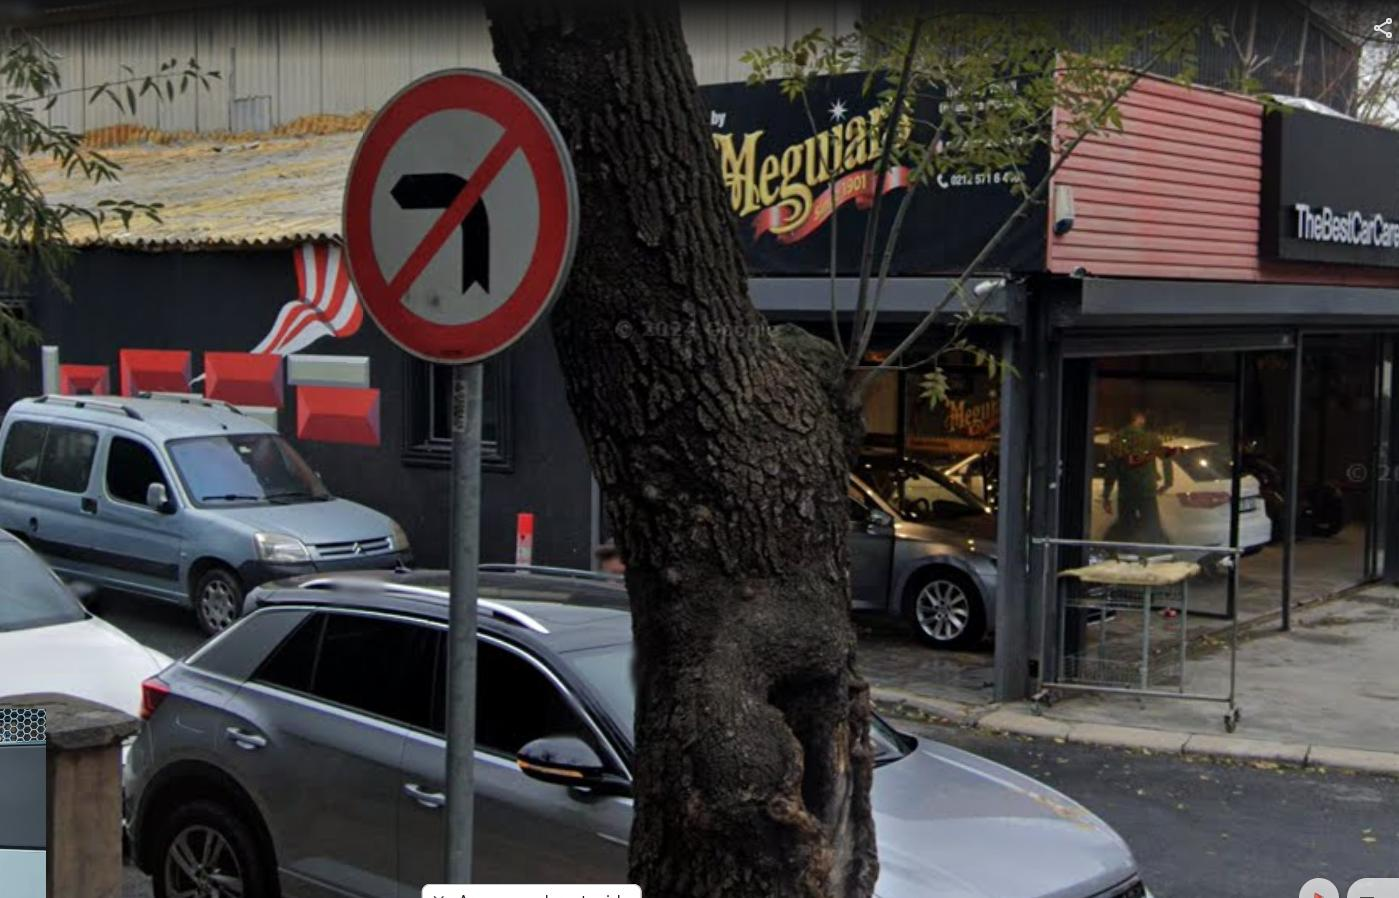leftturnsareforbidden: (328, 76, 567, 359)
